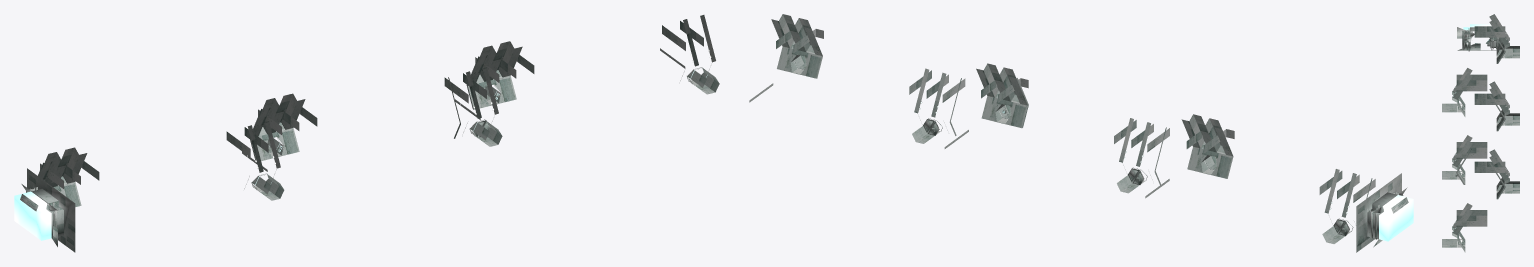
The model's file is Hallway.glb.
3 renders of one model, left to right at view 1: azimuth 30°, elevation 25°; view 2: azimuth 150°, elevation 25°; view 3: azimuth 270°, elevation 25°, orthographic. The views are drawn at different scales.
Visible parts, largest first — view 1: EndSection, Circle.004, Circle, Circle.005, Circle.003, Circle.006, Circle.001; view 2: EndSection, Circle.003, Circle.006, Circle.001, Circle, Circle.004, Circle.005; view 3: Circle.006, Circle.003, Circle.001, Circle.005, Circle, Circle.004, EndSection.
Boxes of the visible parts, x1,y1,x2,y2 form: EndSection: [14, 168, 75, 252]; Circle.004: [250, 93, 317, 161]; Circle: [466, 41, 534, 109]; Circle.005: [38, 147, 99, 206]; Circle.003: [444, 67, 502, 146]; Circle.006: [226, 121, 284, 200]; Circle.001: [662, 15, 719, 94]; EndSection: [1356, 173, 1413, 252]; Circle.003: [976, 63, 1028, 128]; Circle.006: [1181, 114, 1234, 178]; Circle.001: [771, 14, 823, 78]; Circle: [909, 68, 965, 143]; Circle.004: [1114, 118, 1169, 193]; Circle.005: [1319, 169, 1375, 243]; Circle.006: [1442, 68, 1487, 116]; Circle.003: [1442, 135, 1487, 184]; Circle.001: [1442, 203, 1487, 252]; Circle.005: [1474, 14, 1519, 63]; Circle: [1474, 149, 1519, 199]; Circle.004: [1474, 81, 1519, 131]; EndSection: [1457, 24, 1501, 51].
Size of the model in its own units: 349 by 35.56 by 54.69.
Materials: 7 (4 with a texture image).
